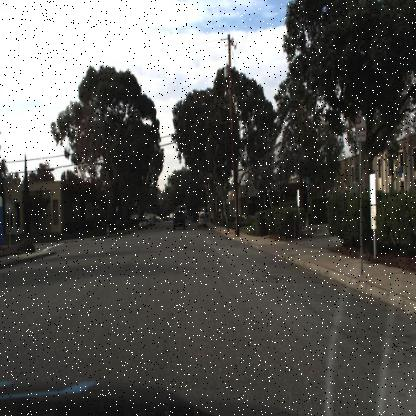car: (172, 210, 188, 232)
